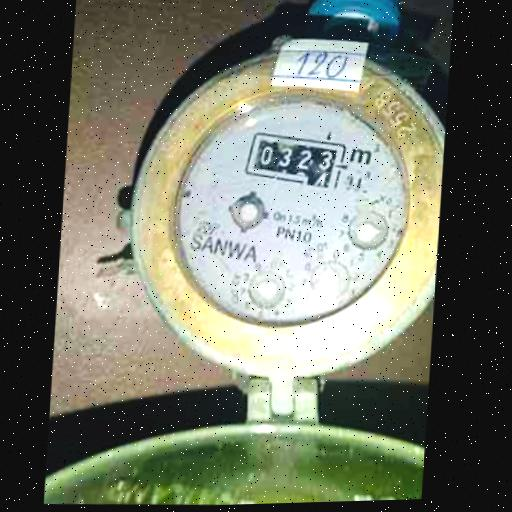0: (253, 137, 278, 172)
2: (289, 142, 317, 178)
3: (306, 145, 337, 189), (271, 140, 298, 175)
border_water_meter_number: (243, 125, 347, 192)
